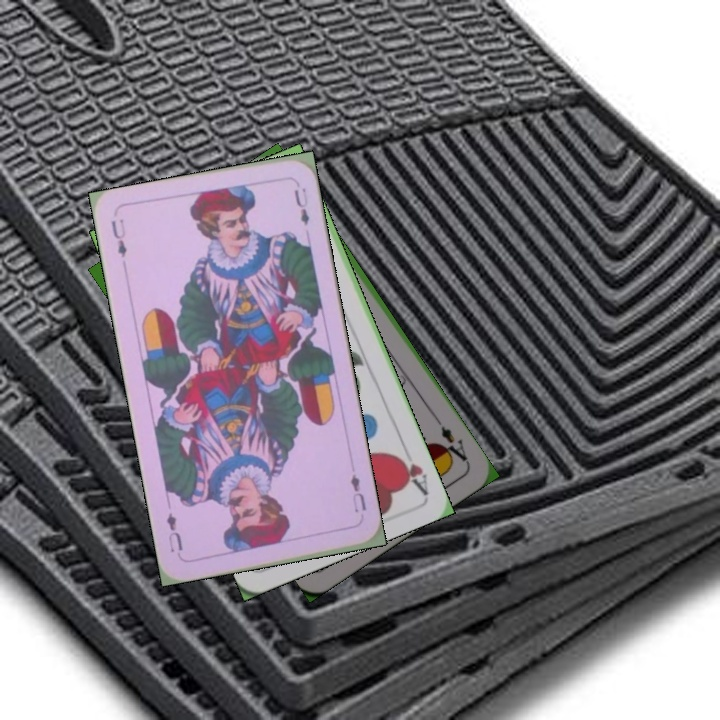EA: (432, 415, 471, 467)
EU: (346, 470, 369, 515), (107, 215, 130, 260)
HA: (392, 441, 431, 497)
